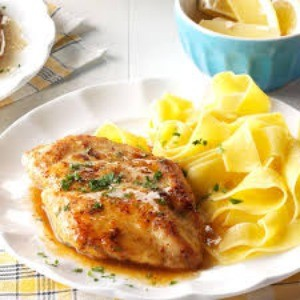chicken breast_brain food: (37, 140, 182, 265)
